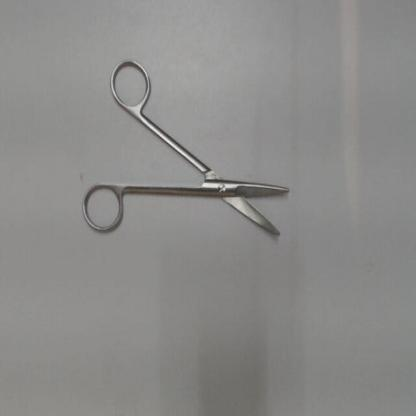Curved Mayo Scissors: (80, 52, 297, 245)
